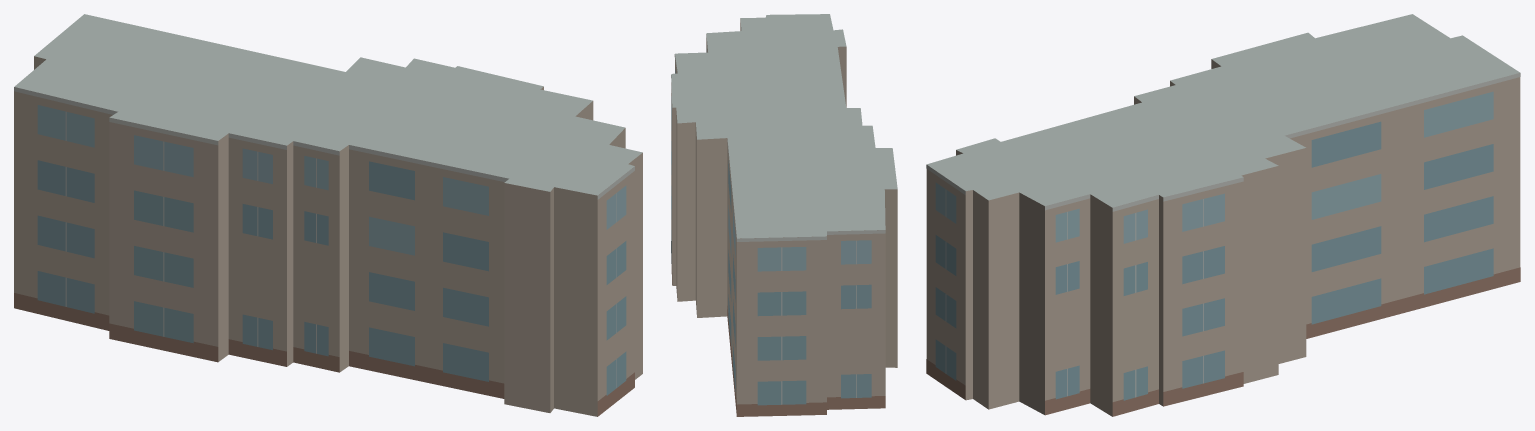
Rendered from survey-upis-32657618.glb.
3 renders of one model, left to right at view 1: azimuth 30°, elevation 25°; view 2: azimuth 150°, elevation 25°; view 3: azimuth 270°, elevation 25°, orthographic. The views are drawn at different scales.
Parts seen in each view (by area): view 1: survey-upis-32657618.tmp; view 2: survey-upis-32657618.tmp; view 3: survey-upis-32657618.tmp.
Boxes of the visible parts, left/top/right/bottom form: survey-upis-32657618.tmp: left=14, top=14, right=642, bottom=416; survey-upis-32657618.tmp: left=671, top=14, right=897, bottom=416; survey-upis-32657618.tmp: left=926, top=14, right=1520, bottom=416.
Size of the model in its own units: 24.25 by 12.2 by 31.41.
